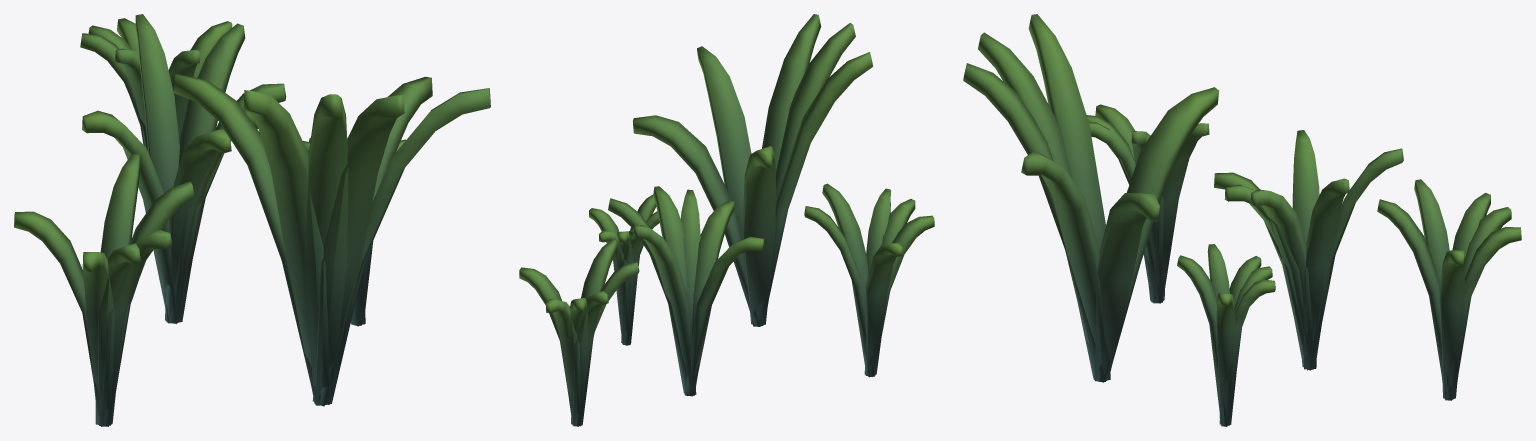
Rendered from Grass_02.fbx.
3 views of the same model, side by side, from view 1: azimuth 30°, elevation 25°; view 2: azimuth 150°, elevation 25°; view 3: azimuth 270°, elevation 25° (orthographic). The views are drawn at different scales.
Parts seen in each view (by area): view 1: Grass_02; view 2: Grass_02; view 3: Grass_02.
Part boxes in pixels (x1,y1,x2,y2): Grass_02: [14, 14, 490, 426]; Grass_02: [519, 14, 934, 426]; Grass_02: [963, 14, 1521, 426].
Bounding box in the file's own units: 117 × 102 × 160.
